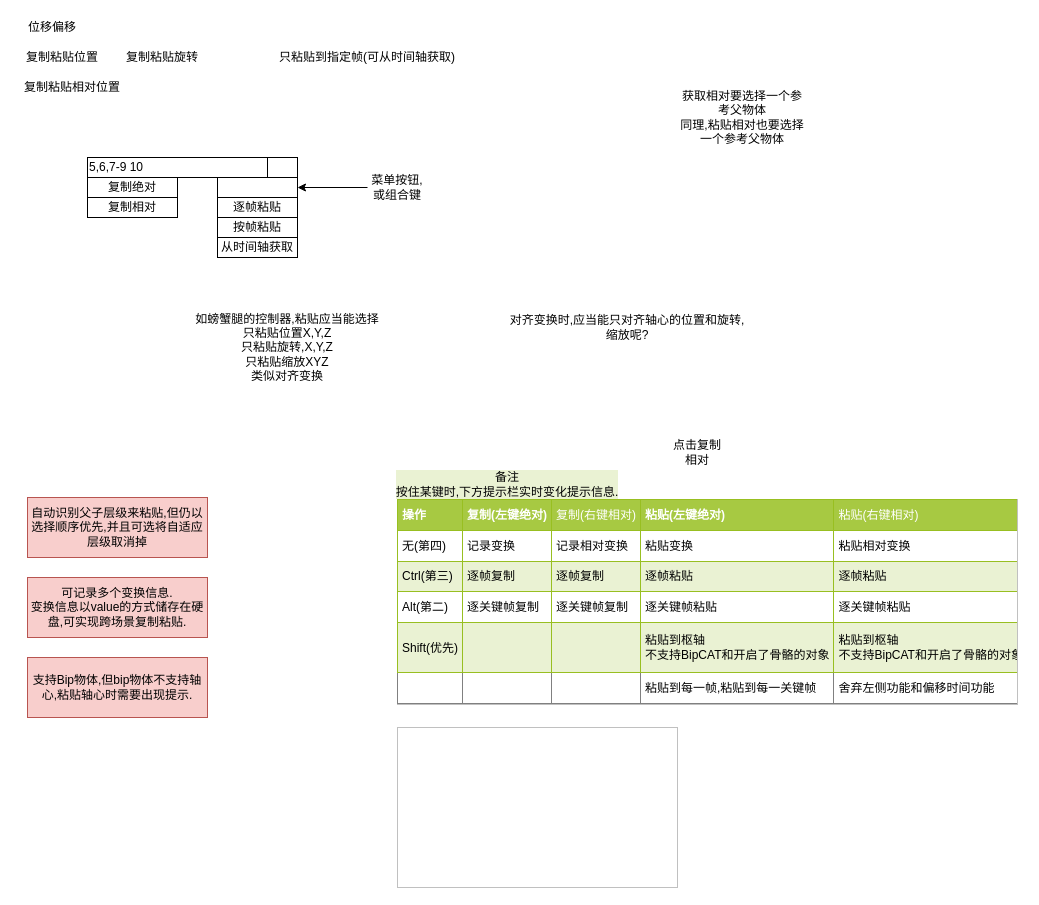
Some shapes in this 1039 by 905 pixel diagram are drawn without their labels. The shapes that lost their labels are listed below. From the top down, each one's box as (x1, y1, x2, y2) in pixels, then its label:
(216, 176, 298, 198): 粘贴绝对
(266, 156, 298, 178): 获取
(396, 726, 678, 888): 选项 位置 旋转 缩放 X 仅对齐X 仅对齐X 仅对齐X Y 仅对齐Y 仅对齐Y 仅对齐Y Z 仅对齐Z 仅对齐Z 仅对齐Z
